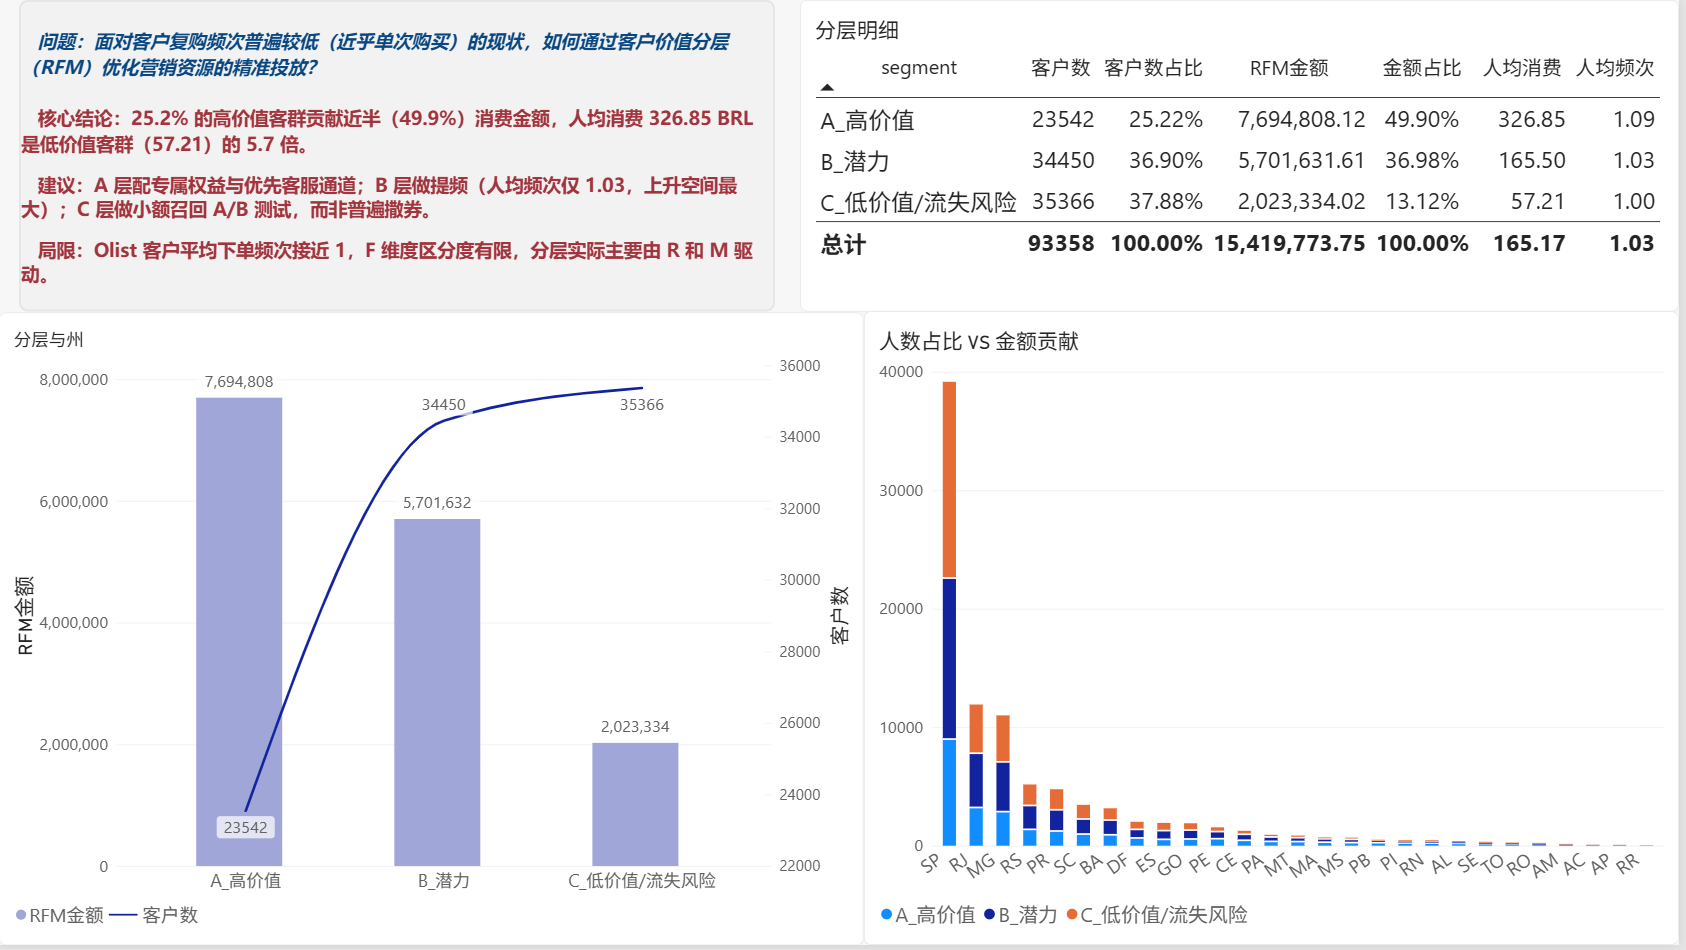

Layout of this report page (visuals, bound fields, positions):
{"tool":"powerbi","page":{"name":"RFM客户分层","canvas":[1920,1080],"ordinal":3},"visuals":[{"type":"tableEx","title":"分层明细","fields":{"Values":["dim_rfm.segment","fact_orders.客户数","fact_orders.客户数占比","dim_rfm.RFM金额","dim_rfm.金额占比","dim_rfm.人均消费","dim_rfm.人均频次"]},"box":[915.7,0,1004.3,355.7],"z":0},{"type":"columnChart","title":"人数占比 VS 金额贡献","fields":{"Category":["fact_orders.customer_state"],"Series":["dim_rfm.segment"],"Y":["fact_orders.客户数"]},"box":[988.6,355.7,931.4,724.3],"z":1000},{"type":"lineClusteredColumnComboChart","title":"分层与州","fields":{"Category":["dim_rfm.segment"],"Y":["dim_rfm.RFM金额"],"Y2":["fact_orders.客户数"]},"box":[0,356.7,988.3,723.3],"z":2000},{"type":"textbox","box":[23.4,0,863.9,356.2],"z":3000}]}

Visuals, with their boxes in screenshot pixels (x1, y1, x2, y2), scaled from the page's 1920x1080 canvas onto the 1686x950 screenshot:
"分层明细" tableEx: 804,0,1685,313
"人数占比 VS 金额贡献" columnChart: 868,313,1685,949
"分层与州" lineClusteredColumnComboChart: 0,314,868,949
textbox: 21,0,779,313
